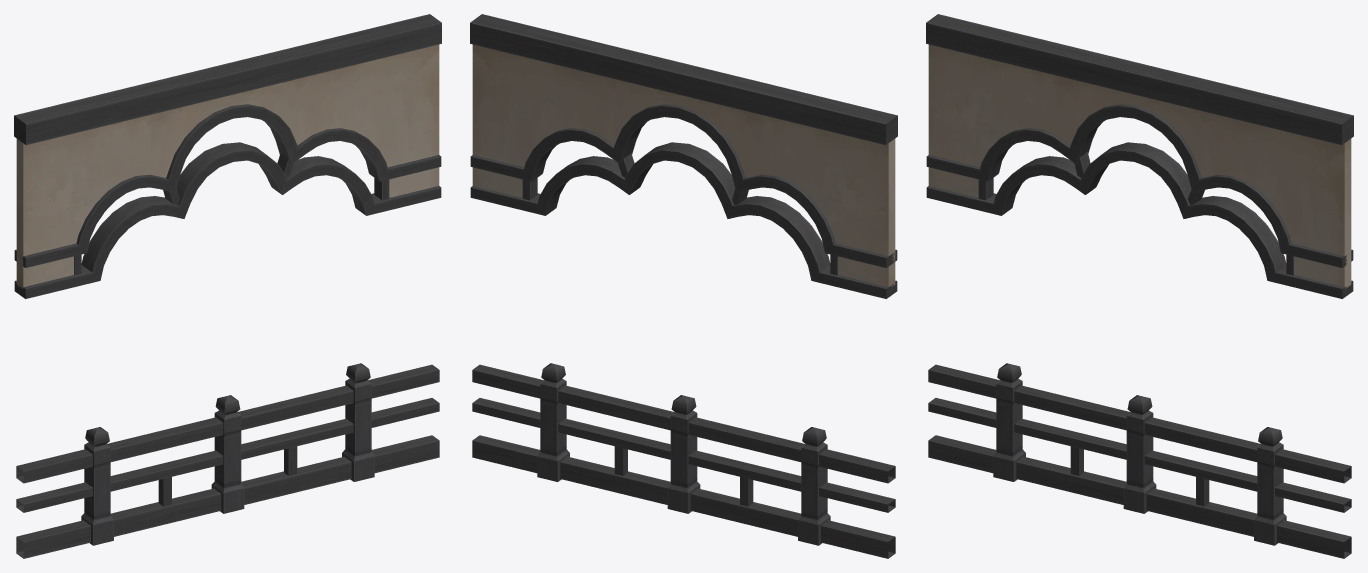
The model's file is Homeworld_Interior_Dq_Room_Wall_05_Vo.fbx.
3 renders of one model, left to right at view 1: azimuth 30°, elevation 25°; view 2: azimuth 150°, elevation 25°; view 3: azimuth 330°, elevation 25°, orthographic.
Visible parts, largest first — view 1: Homeworld_Interior_Dq_Room_Wall_05_Vo; view 2: Homeworld_Interior_Dq_Room_Wall_05_Vo; view 3: Homeworld_Interior_Dq_Room_Wall_05_Vo.
Boxes of the visible parts, x1,y1,x2,y2 form: Homeworld_Interior_Dq_Room_Wall_05_Vo: (14,14,441,558); Homeworld_Interior_Dq_Room_Wall_05_Vo: (470,14,897,558); Homeworld_Interior_Dq_Room_Wall_05_Vo: (926,14,1353,558).
Bounding box in the file's own units: 5 × 5.03 × 0.25.
